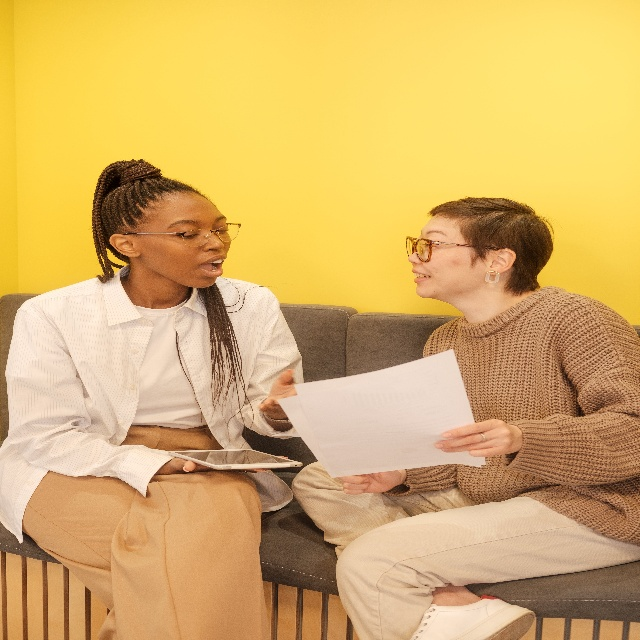Gafas: (404, 233, 487, 263), (179, 217, 244, 250)
Sin_guantes: (436, 427, 515, 458), (259, 373, 296, 422), (343, 471, 404, 489), (166, 456, 201, 477)
